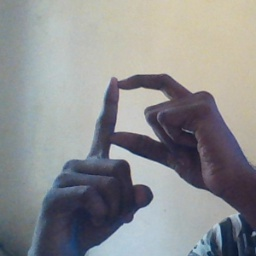D: (71, 69, 217, 197)
